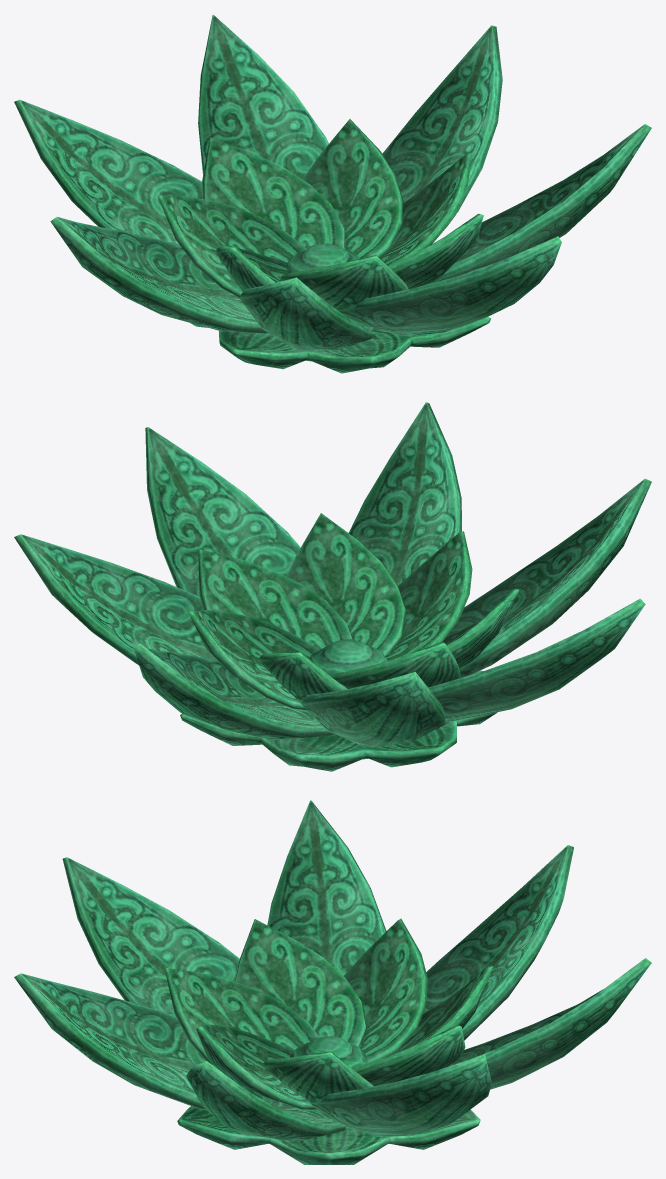
Rendered from SM_Jade_lotus_flower.fbx.
3 renders of one model, top to bottom at view 1: azimuth 30°, elevation 25°; view 2: azimuth 150°, elevation 25°; view 3: azimuth 270°, elevation 25°, orthographic.
Parts seen in each view (by area): view 1: SM_Jade_lotus_flower_LOD0; view 2: SM_Jade_lotus_flower_LOD0; view 3: SM_Jade_lotus_flower_LOD0.
Boxes of the visible parts, x1,y1,x2,y2 form: SM_Jade_lotus_flower_LOD0: (14,14,651,373); SM_Jade_lotus_flower_LOD0: (14,402,651,771); SM_Jade_lotus_flower_LOD0: (14,800,651,1164).
Size of the model in its own units: 15.09 by 15.29 by 5.08.
